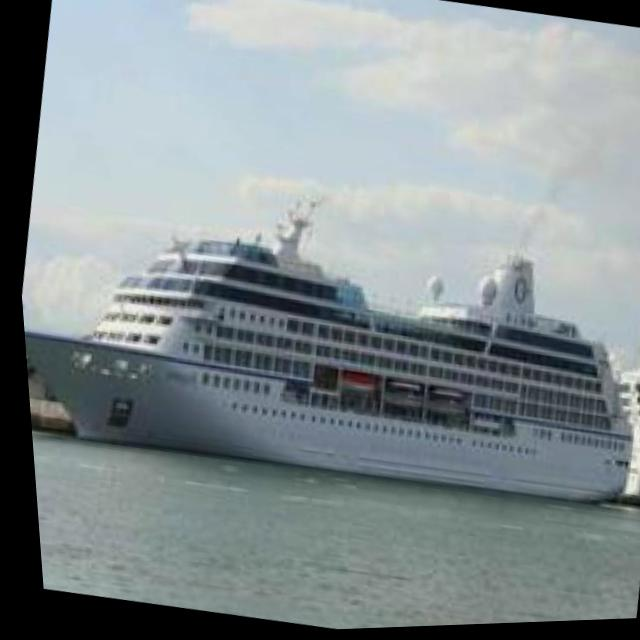ship2: (19, 198, 627, 509)
